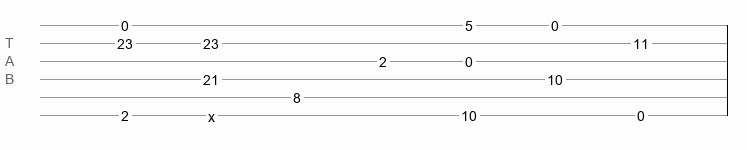0: (121, 18, 129, 28), (465, 54, 473, 64), (551, 18, 559, 28), (637, 108, 645, 118)
10: (461, 108, 477, 118), (547, 72, 563, 82)
11: (633, 36, 649, 46)
2: (121, 108, 129, 118), (379, 54, 387, 64)
21: (203, 72, 219, 82)
23: (117, 36, 133, 46), (203, 36, 219, 46)
5: (465, 18, 473, 28)
8: (293, 90, 301, 100)
x: (208, 109, 215, 117)
